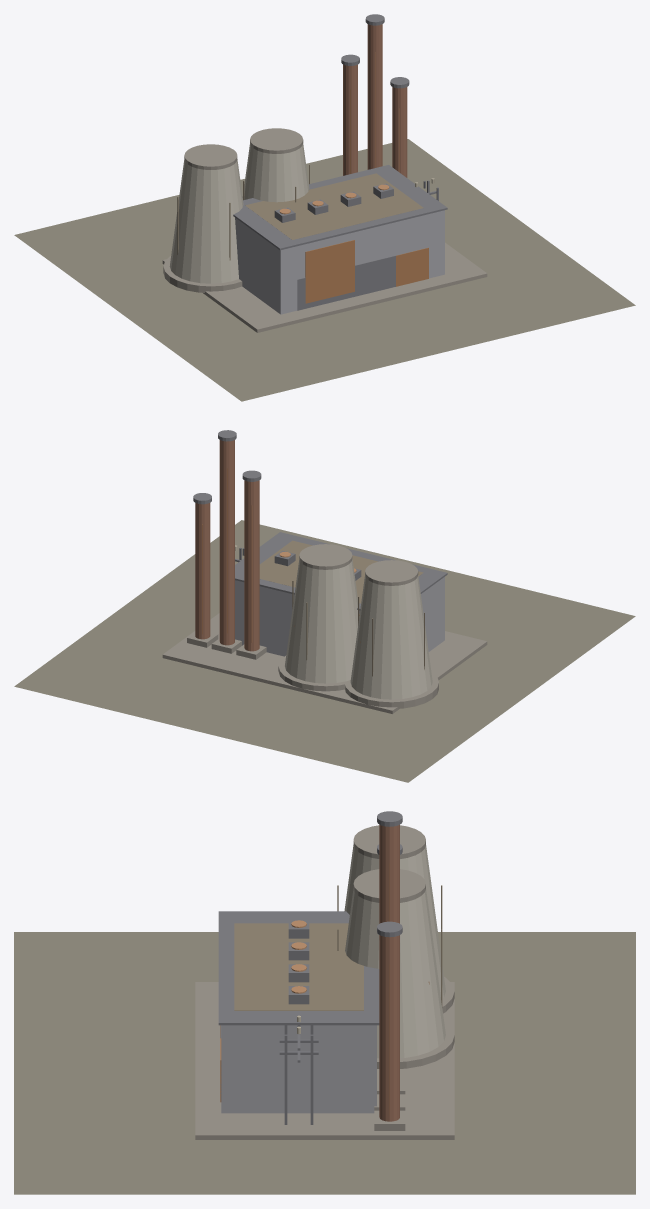
The model's file is power_plant.glb.
3 renders of one model, top to bottom at view 1: azimuth 30°, elevation 25°; view 2: azimuth 150°, elevation 25°; view 3: azimuth 270°, elevation 25°, orthographic. The views are drawn at different scales.
Visible parts, largest first — view 1: Ground, Plant_Main, Tower1_Body, Plant_Roof_Dirt, Plant_Base, Plant_Roof, Tower2_Body, Plant_Main_Rust1, Stack2_Body, Fence_Yard, Stack1_Body, Stack3_Body (+4 smaller); view 2: Ground, Tower1_Body, Tower2_Body, Plant_Base, Plant_Main, Stack2_Body, Stack1_Body, Stack3_Body, Plant_Roof, Plant_Roof_Dirt, Tower1_Top, Tower2_Top (+2 smaller); view 3: Ground, Plant_Main, Plant_Base, Plant_Roof_Dirt, Tower2_Body, Plant_Roof, Stack3_Body, Tower1_Body, Stack2_Body, Tower2_Top, Tower1_Top, Tower2_Base.
Part boxes in pixels (bbox=[...]): Ground: bbox=[14, 139, 635, 401]; Plant_Main: bbox=[235, 210, 444, 314]; Tower1_Body: bbox=[169, 159, 243, 283]; Plant_Roof_Dirt: bbox=[245, 173, 423, 239]; Plant_Base: bbox=[162, 242, 487, 332]; Plant_Roof: bbox=[233, 165, 447, 250]; Tower2_Body: bbox=[242, 143, 309, 202]; Plant_Main_Rust1: bbox=[305, 240, 354, 303]; Stack2_Body: bbox=[367, 24, 382, 169]; Fence_Yard: bbox=[297, 255, 396, 310]; Stack1_Body: bbox=[343, 64, 357, 175]; Stack3_Body: bbox=[392, 87, 407, 177]; Ground: bbox=[14, 520, 635, 782]; Tower1_Body: bbox=[350, 575, 432, 699]; Tower2_Body: bbox=[285, 559, 357, 683]; Plant_Base: bbox=[162, 613, 487, 713]; Plant_Main: bbox=[235, 577, 444, 656]; Stack2_Body: bbox=[219, 440, 234, 645]; Stack1_Body: bbox=[244, 480, 259, 651]; Stack3_Body: bbox=[195, 503, 210, 639]; Plant_Roof: bbox=[235, 532, 447, 610]; Plant_Roof_Dirt: bbox=[259, 540, 423, 603]; Tower1_Top: bbox=[365, 560, 418, 585]; Tower2_Top: bbox=[299, 544, 352, 569]; Ground: bbox=[14, 932, 635, 1194]; Plant_Main: bbox=[221, 1025, 376, 1113]; Plant_Base: bbox=[195, 982, 454, 1139]; Plant_Roof_Dirt: bbox=[234, 923, 363, 1010]; Tower2_Body: bbox=[345, 888, 445, 1058]; Plant_Roof: bbox=[218, 911, 379, 1025]; Stack3_Body: bbox=[379, 935, 399, 1121]; Tower1_Body: bbox=[344, 845, 445, 998]; Stack2_Body: bbox=[379, 824, 399, 923]; Tower2_Top: bbox=[353, 869, 425, 902]; Tower1_Top: bbox=[353, 825, 425, 858]; Tower2_Base: bbox=[377, 1020, 454, 1068].
Bounding box in the file's own units: 24 × 12.6 × 24.
